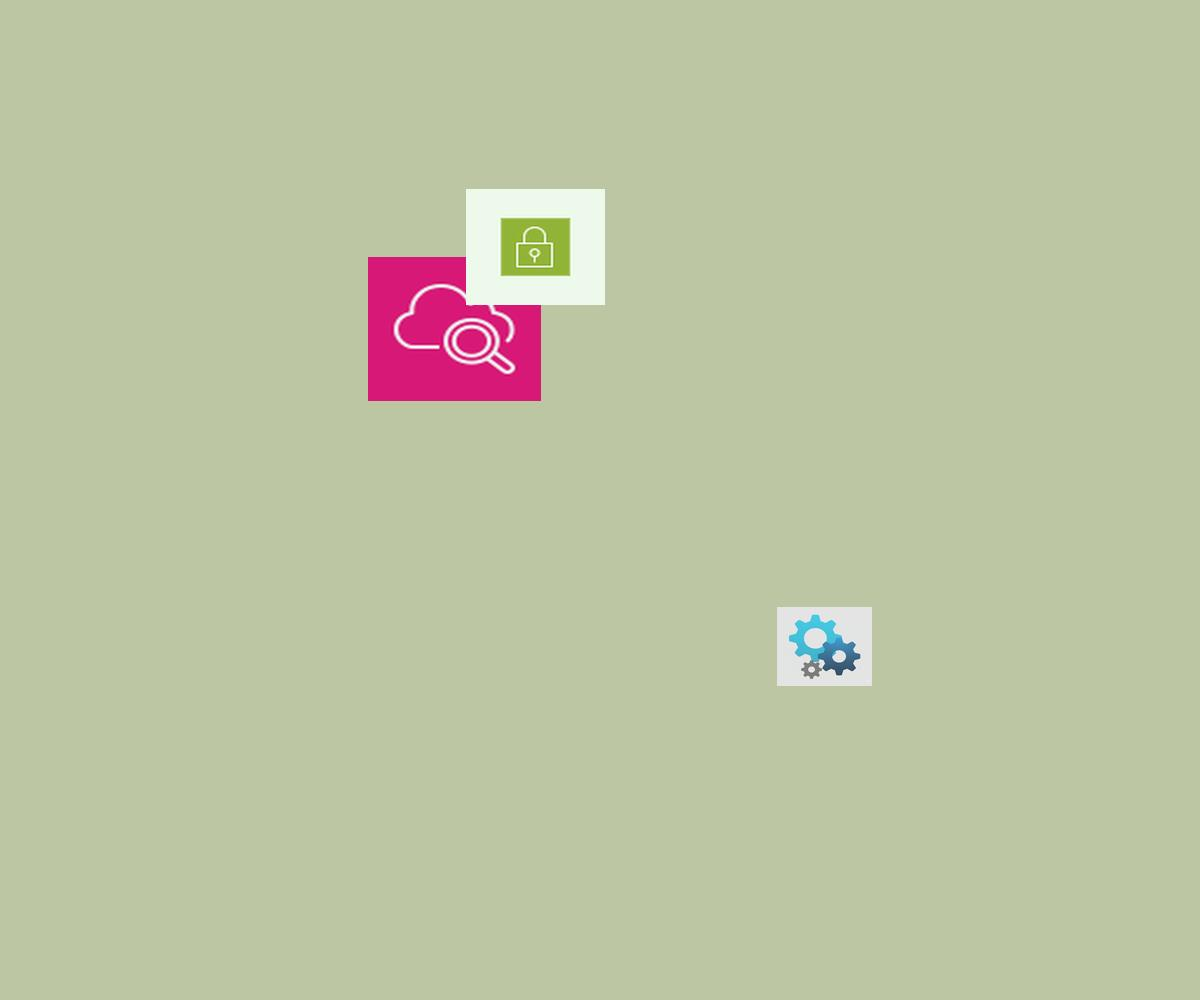AWS-CloudWatch: (368, 257, 541, 401)
AWS-Public-subnet: (466, 189, 605, 305)
Azure_api: (777, 607, 872, 686)
